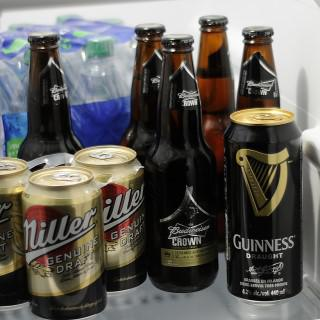beer: (7, 16, 307, 317)
